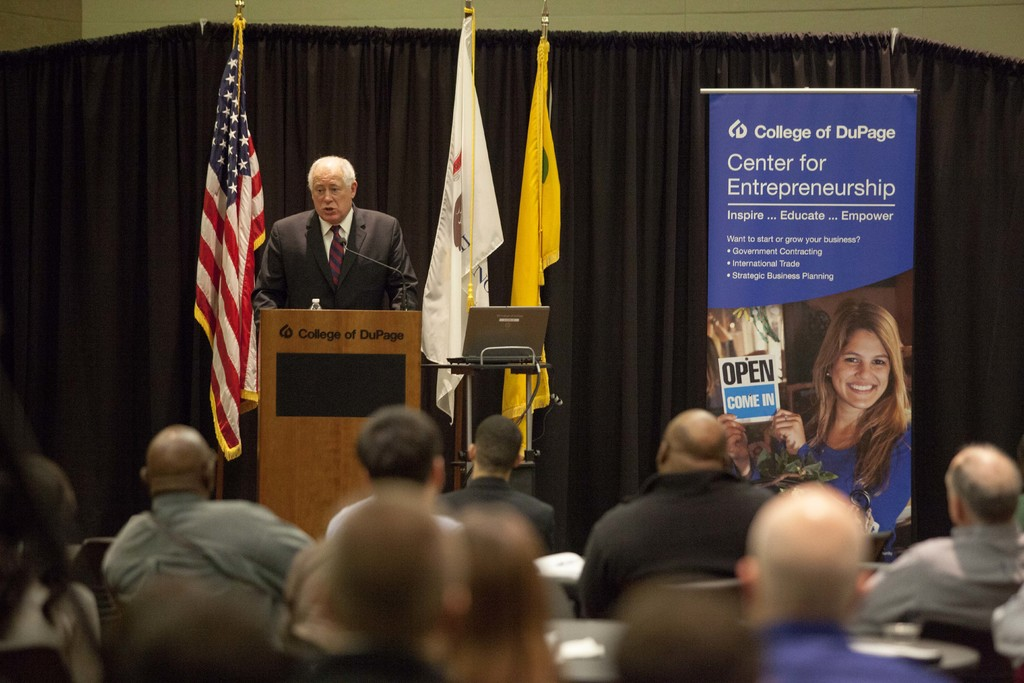Human_hand: (715, 415, 754, 462), (766, 406, 807, 448)
